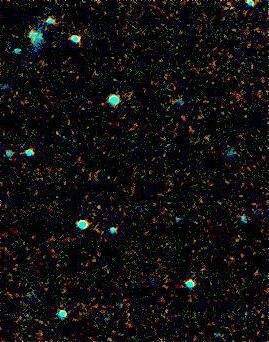star: (84, 193, 114, 223)
